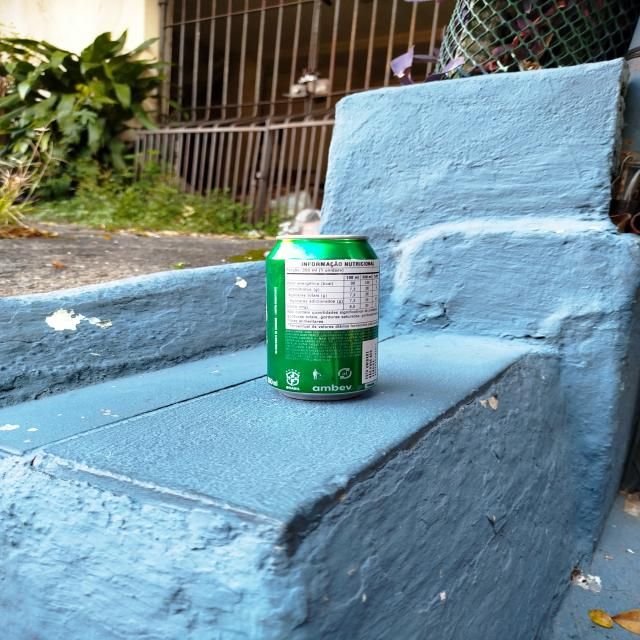Guarana: (265, 236, 383, 402)
